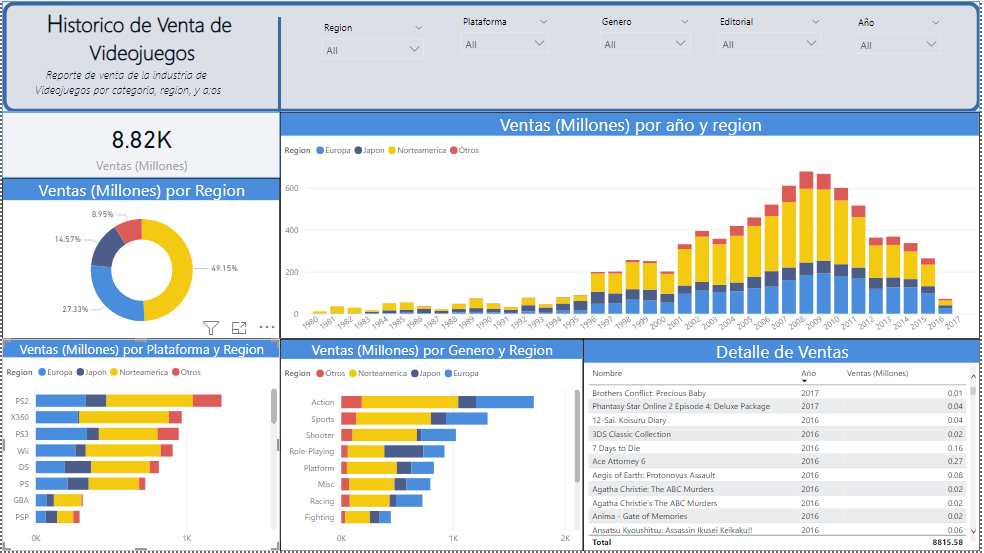

What the dashboard file says about the page in this screenshot:
{"tool":"powerbi","page":{"name":"Página 1","canvas":[1280,720],"ordinal":0},"visuals":[{"type":"shape","box":[0,0,1280.2,145.4],"z":0},{"type":"tableEx","title":"Detalle de Ventas","fields":{"Values":["Ventas Videojuegos.Nombre","Ventas Videojuegos.Año","Sum(Ventas Videojuegos.Ventas (Millones))"]},"box":[760.3,406.1,519.8,313.9],"z":1000},{"type":"columnChart","fields":{"Category":["Ventas Videojuegos.Año"],"Y":["Sum(Ventas Videojuegos.Ventas (Millones))"],"Series":["Ventas Videojuegos.Region"]},"box":[363.9,145.3,916.4,260.5],"z":2000},{"type":"donutChart","fields":{"Category":["Ventas Videojuegos.Region"],"Y":["Sum(Ventas Videojuegos.Ventas (Millones))"]},"box":[0,231.7,363.9,174.1],"z":3000},{"type":"barChart","fields":{"Category":["Ventas Videojuegos.Plataforma"],"Y":["Sum(Ventas Videojuegos.Ventas (Millones))"],"Series":["Ventas Videojuegos.Region"]},"box":[0,406.1,364.3,313.9],"z":4000},{"type":"barChart","fields":{"Category":["Ventas Videojuegos.Genero"],"Y":["Sum(Ventas Videojuegos.Ventas (Millones))"],"Series":["Ventas Videojuegos.Region"]},"box":[364.3,406.1,396,313.9],"z":5000},{"type":"card","fields":{"Values":["Sum(Ventas Videojuegos.Ventas (Millones))"]},"box":[0,145.4,364.3,86.4],"z":6000},{"type":"slicer","fields":{"Values":["Ventas Videojuegos.Region"]},"box":[408.4,20.9,154.5,73.3],"z":7000},{"type":"slicer","fields":{"Values":["Ventas Videojuegos.Año"]},"box":[1107.5,14.4,132.2,65.5],"z":8000},{"type":"slicer","fields":{"Values":["Ventas Videojuegos.Plataforma"]},"box":[590.4,13.1,136.1,64.1],"z":9000},{"type":"slicer","fields":{"Values":["Ventas Videojuegos.Genero"]},"box":[772.4,13.1,138.8,64.1],"z":10000},{"type":"slicer","fields":{"Values":["Ventas Videojuegos.Editorial"]},"box":[926.8,13.1,155.8,64.1],"z":11000},{"type":"textbox","box":[8.6,0,348.5,92.2],"z":12000},{"type":"textbox","box":[30.2,80.6,269.3,79.2],"z":13000},{"type":"shape","box":[337.7,20.9,51.1,124.4],"z":14000}]}

Visuals, with their boxes in screenshot pixels (x1, y1, x2, y2), scaled from the page's 1280x720 canvas onto the 984x553 screenshot:
shape: 0/0/983/112
"Detalle de Ventas" tableEx: 584/312/983/552
columnChart - Ventas Videojuegos.Año x Sum(Ventas Videojuegos.Ventas (Millones)): 280/112/983/312
donutChart - Ventas Videojuegos.Region x Sum(Ventas Videojuegos.Ventas (Millones)): 0/178/280/312
barChart - Ventas Videojuegos.Plataforma x Sum(Ventas Videojuegos.Ventas (Millones)): 0/312/280/552
barChart - Ventas Videojuegos.Genero x Sum(Ventas Videojuegos.Ventas (Millones)): 280/312/584/552
card - Sum(Ventas Videojuegos.Ventas (Millones)): 0/112/280/178
slicer - Ventas Videojuegos.Region: 314/16/433/72
slicer - Ventas Videojuegos.Año: 851/11/953/61
slicer - Ventas Videojuegos.Plataforma: 454/10/558/59
slicer - Ventas Videojuegos.Genero: 594/10/700/59
slicer - Ventas Videojuegos.Editorial: 712/10/832/59
textbox: 7/0/275/71
textbox: 23/62/230/123
shape: 260/16/299/112
